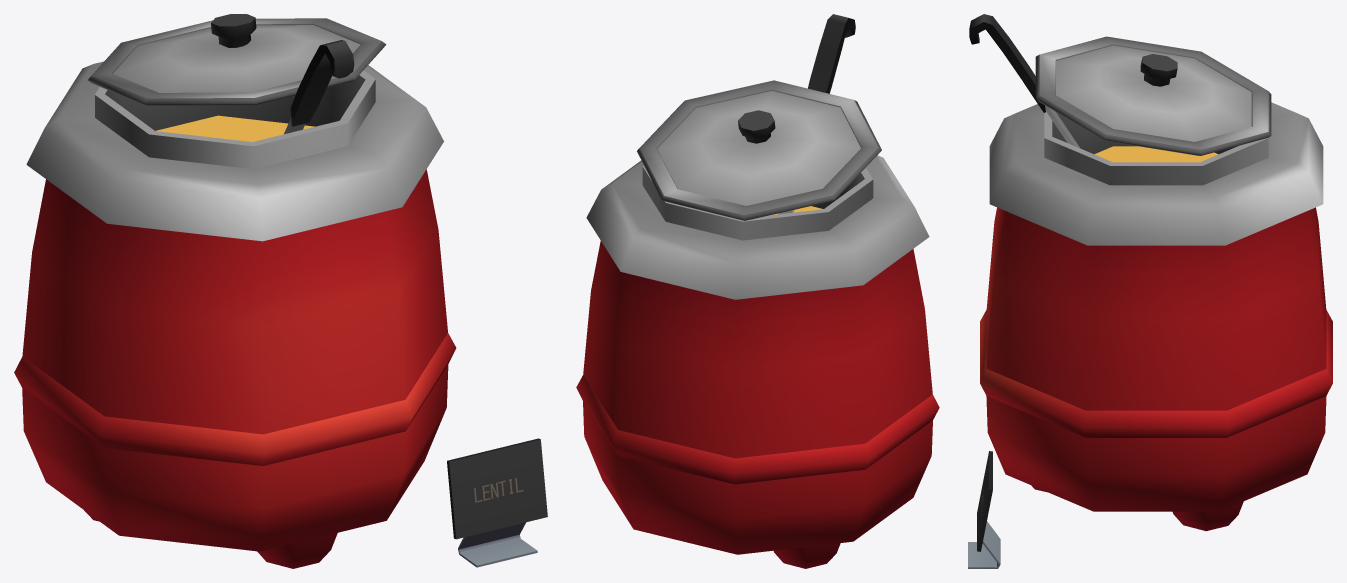
File: CR_caf_Pot_002.FBX
The picture shows the model from 3 angles, left to right: view 1: azimuth 30°, elevation 25°; view 2: azimuth 150°, elevation 25°; view 3: azimuth 270°, elevation 25°; orthographic projection. The views are drawn at different scales.
Parts seen in each view (by area): view 1: CR_caf_Pot_002; view 2: CR_caf_Pot_002; view 3: CR_caf_Pot_002.
Boxes of the visible parts, x1,y1,x2,y2 form: CR_caf_Pot_002: (14, 14, 547, 568); CR_caf_Pot_002: (576, 14, 939, 568); CR_caf_Pot_002: (968, 14, 1332, 568).
Bounding box in the file's own units: 27.22 × 37.01 × 26.01.
